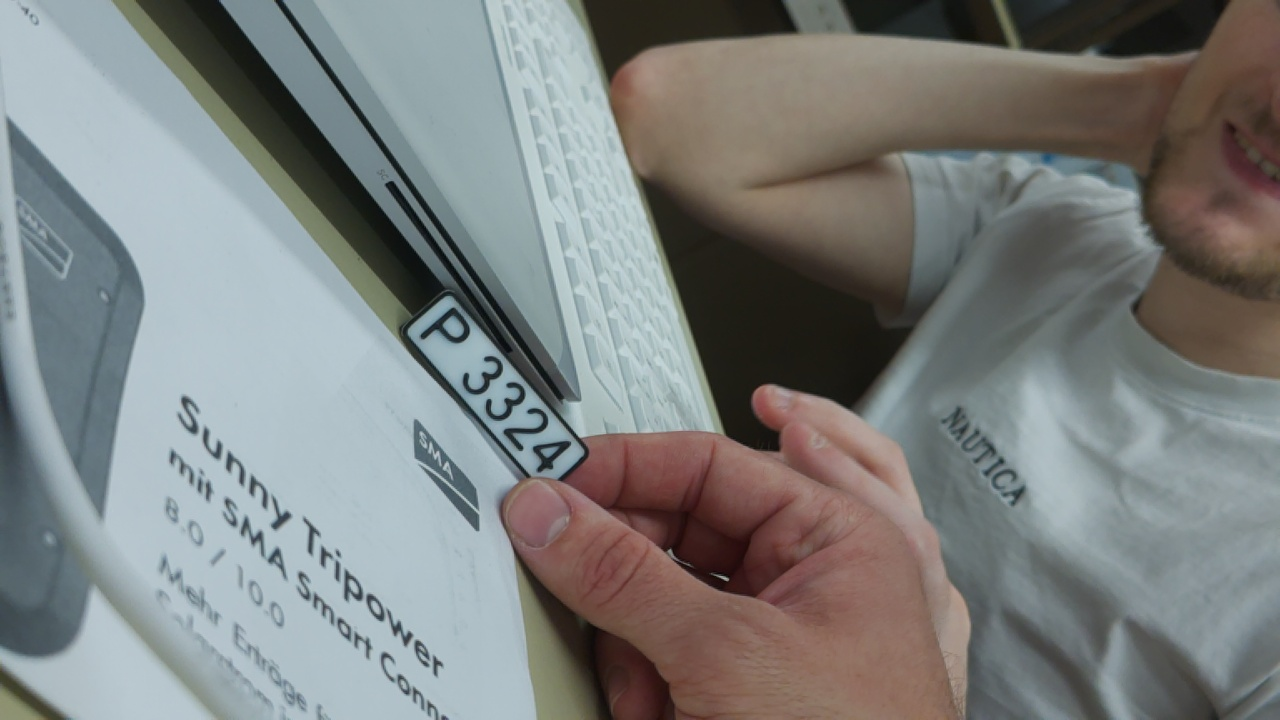license_plate: (389, 275, 596, 506)
